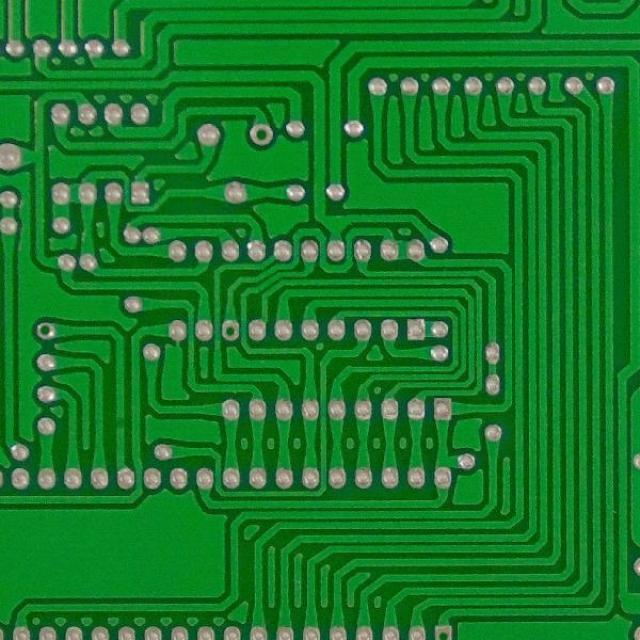Missing_Hole: (250, 124, 272, 146), (34, 320, 56, 339), (220, 322, 240, 341), (432, 623, 453, 640)
